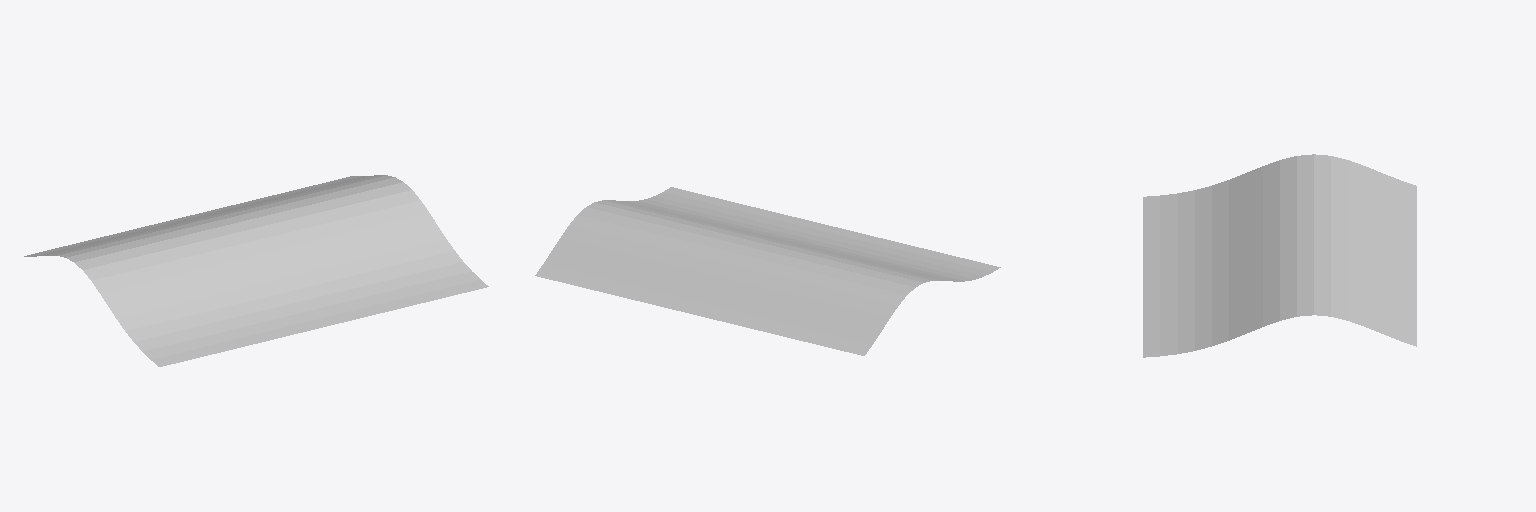
Rendered from Olas1.obj.
3 renders of one model, left to right at view 1: azimuth 30°, elevation 25°; view 2: azimuth 150°, elevation 25°; view 3: azimuth 270°, elevation 25°, orthographic.
Parts seen in each view (by area): view 1: Plane; view 2: Plane; view 3: Plane.
Boxes of the visible parts, <box> form: Plane: <box>24,175,488,366</box>; Plane: <box>535,187,1000,355</box>; Plane: <box>1143,154,1416,357</box>.
Size of the model in its own units: 13.82 by 1.7 by 9.91.